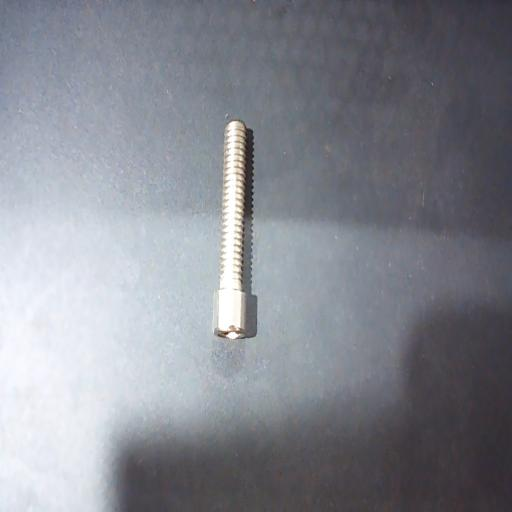screw: (212, 119, 247, 339)
